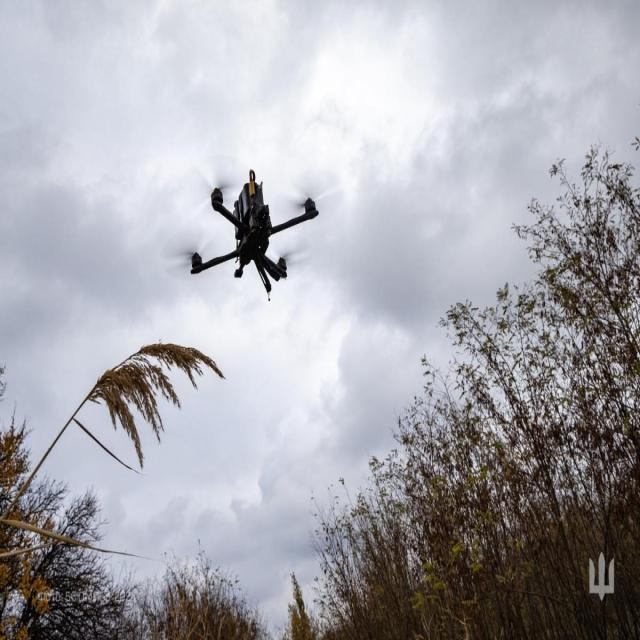drone: (167, 165, 336, 306)
